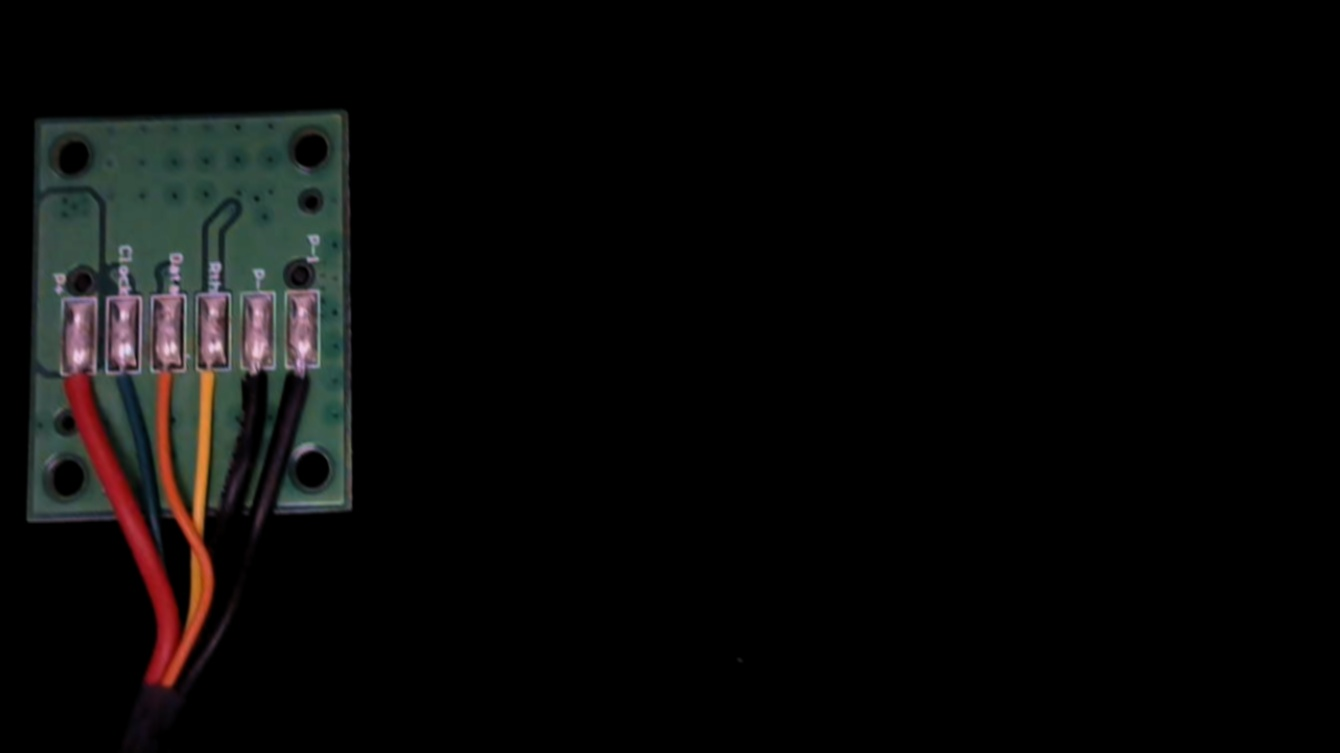Black: (236, 351, 272, 428)
Black1: (282, 350, 320, 432)
Green: (99, 351, 140, 436)
Orange: (145, 351, 183, 439)
Red: (57, 351, 98, 436)
Yellow: (190, 349, 231, 439)
